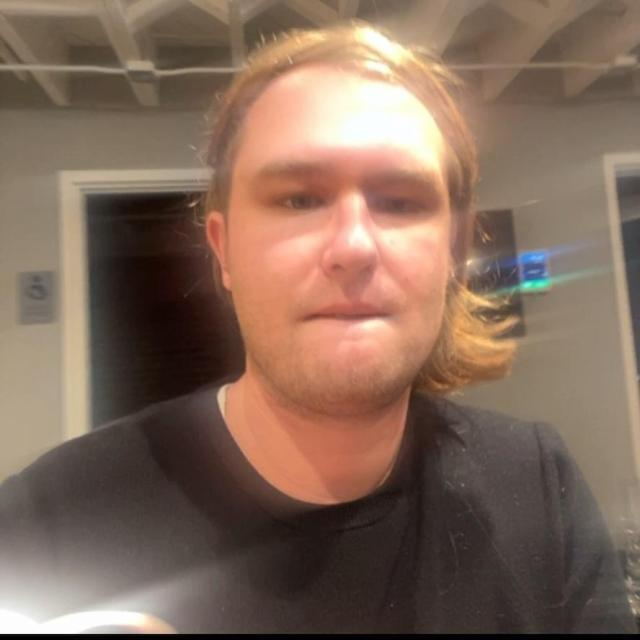no hat: (189, 24, 462, 458)
